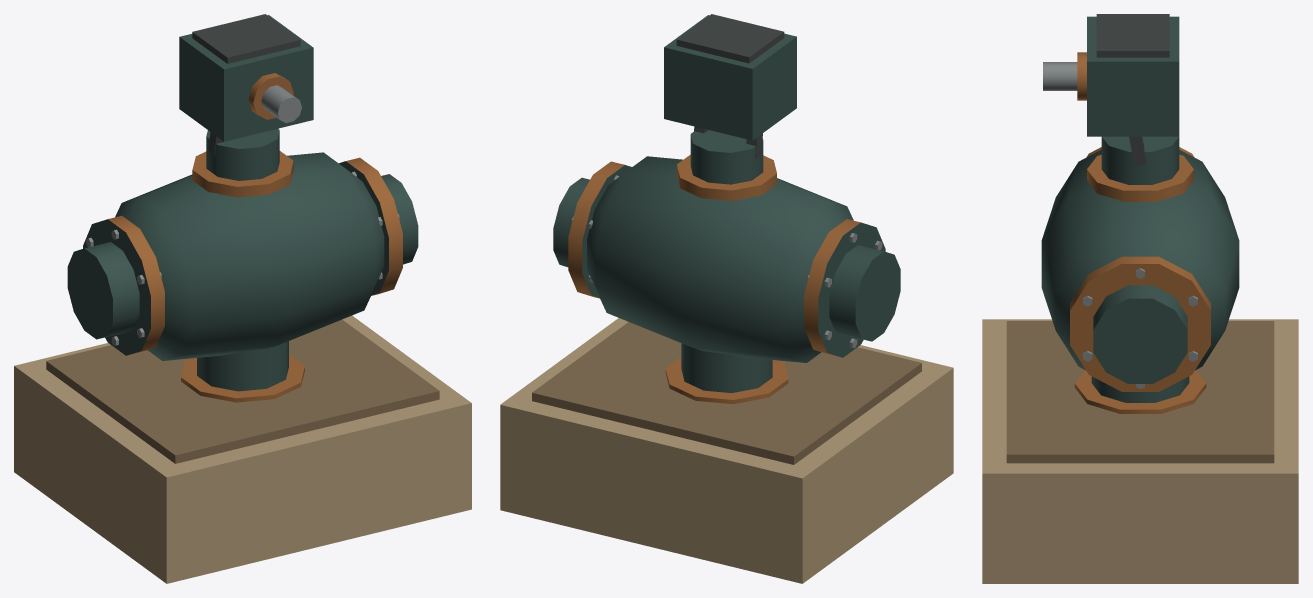
The model's file is sluice_valve_body.glb.
3 renders of one model, left to right at view 1: azimuth 30°, elevation 25°; view 2: azimuth 150°, elevation 25°; view 3: azimuth 270°, elevation 25°, orthographic. The views are drawn at different scales.
Visible parts, largest first — view 1: Body; view 2: Body; view 3: Body.
Part boxes in pixels (left/top/right/bottom): Body: left=14, top=14, right=471, bottom=583; Body: left=500, top=14, right=953, bottom=583; Body: left=982, top=14, right=1298, bottom=583.
Size of the model in its own units: 1.5 by 2.15 by 1.3.
